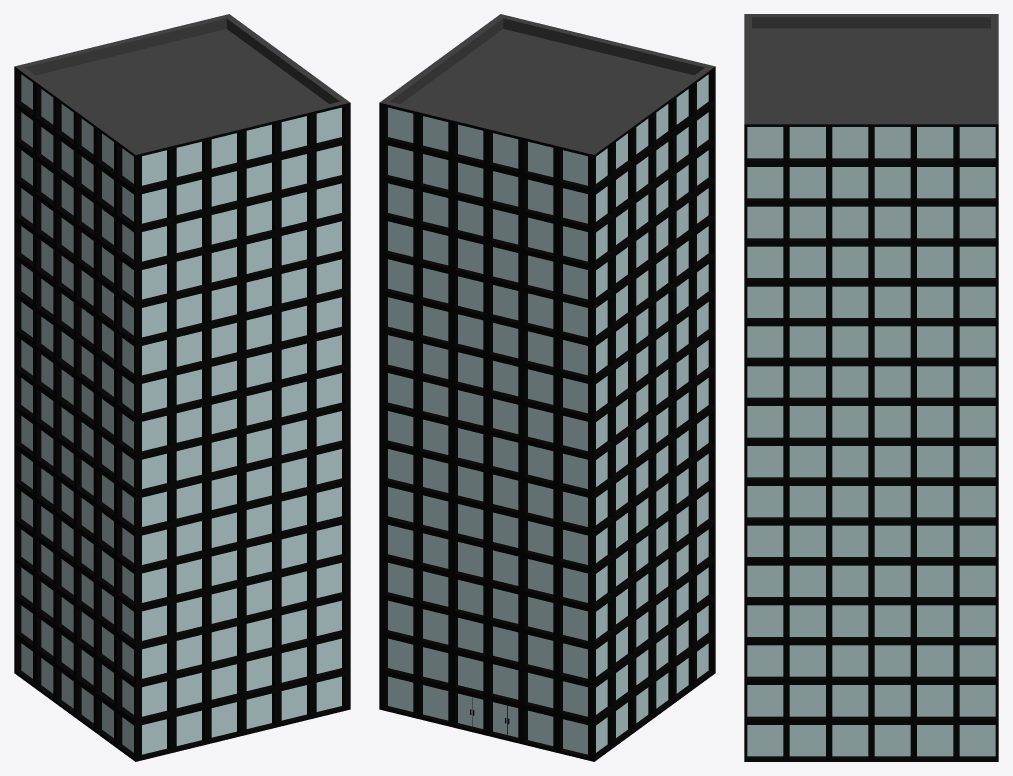
The model's file is Building2.glb.
3 renders of one model, left to right at view 1: azimuth 30°, elevation 25°; view 2: azimuth 150°, elevation 25°; view 3: azimuth 270°, elevation 25°, orthographic. The views are drawn at different scales.
Parts seen in each view (by area): view 1: Cube.039; view 2: Cube.039; view 3: Cube.039.
Boxes of the visible parts, x1=… form: Cube.039: x1=14, y1=14, x2=350, y2=761; Cube.039: x1=379, y1=14, x2=715, y2=761; Cube.039: x1=744, y1=14, x2=998, y2=761.
Bounding box in the file's own units: 4.1 × 11.05 × 4.
